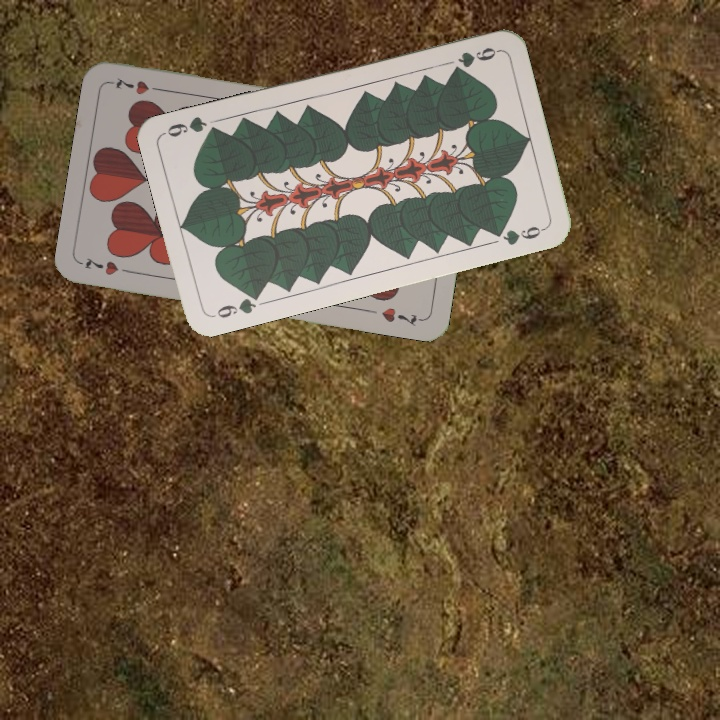G9: (208, 288, 264, 321), (454, 43, 501, 70)
H7: (78, 253, 137, 278)
